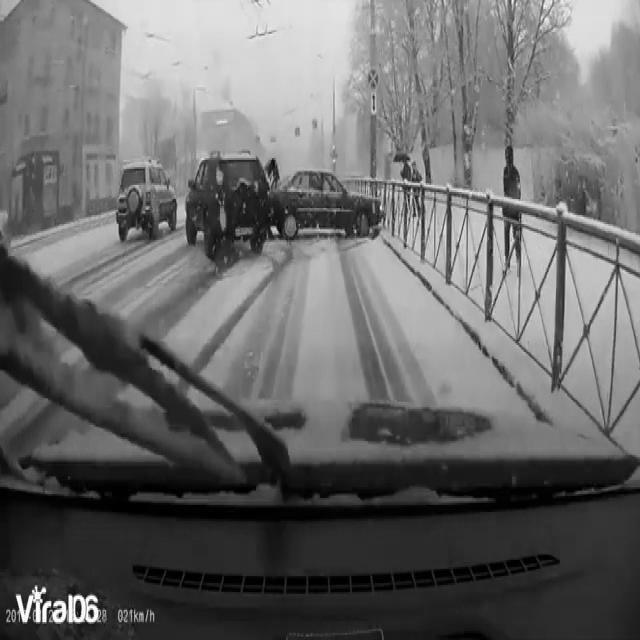accident: (182, 142, 385, 259)
